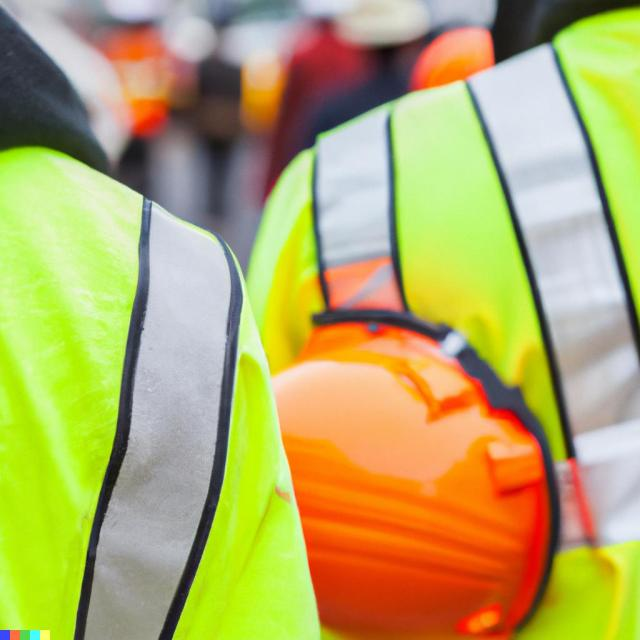Reflective-Jacket: (261, 20, 640, 640), (1, 135, 310, 640)
Safety-Helmet: (269, 303, 564, 640)
